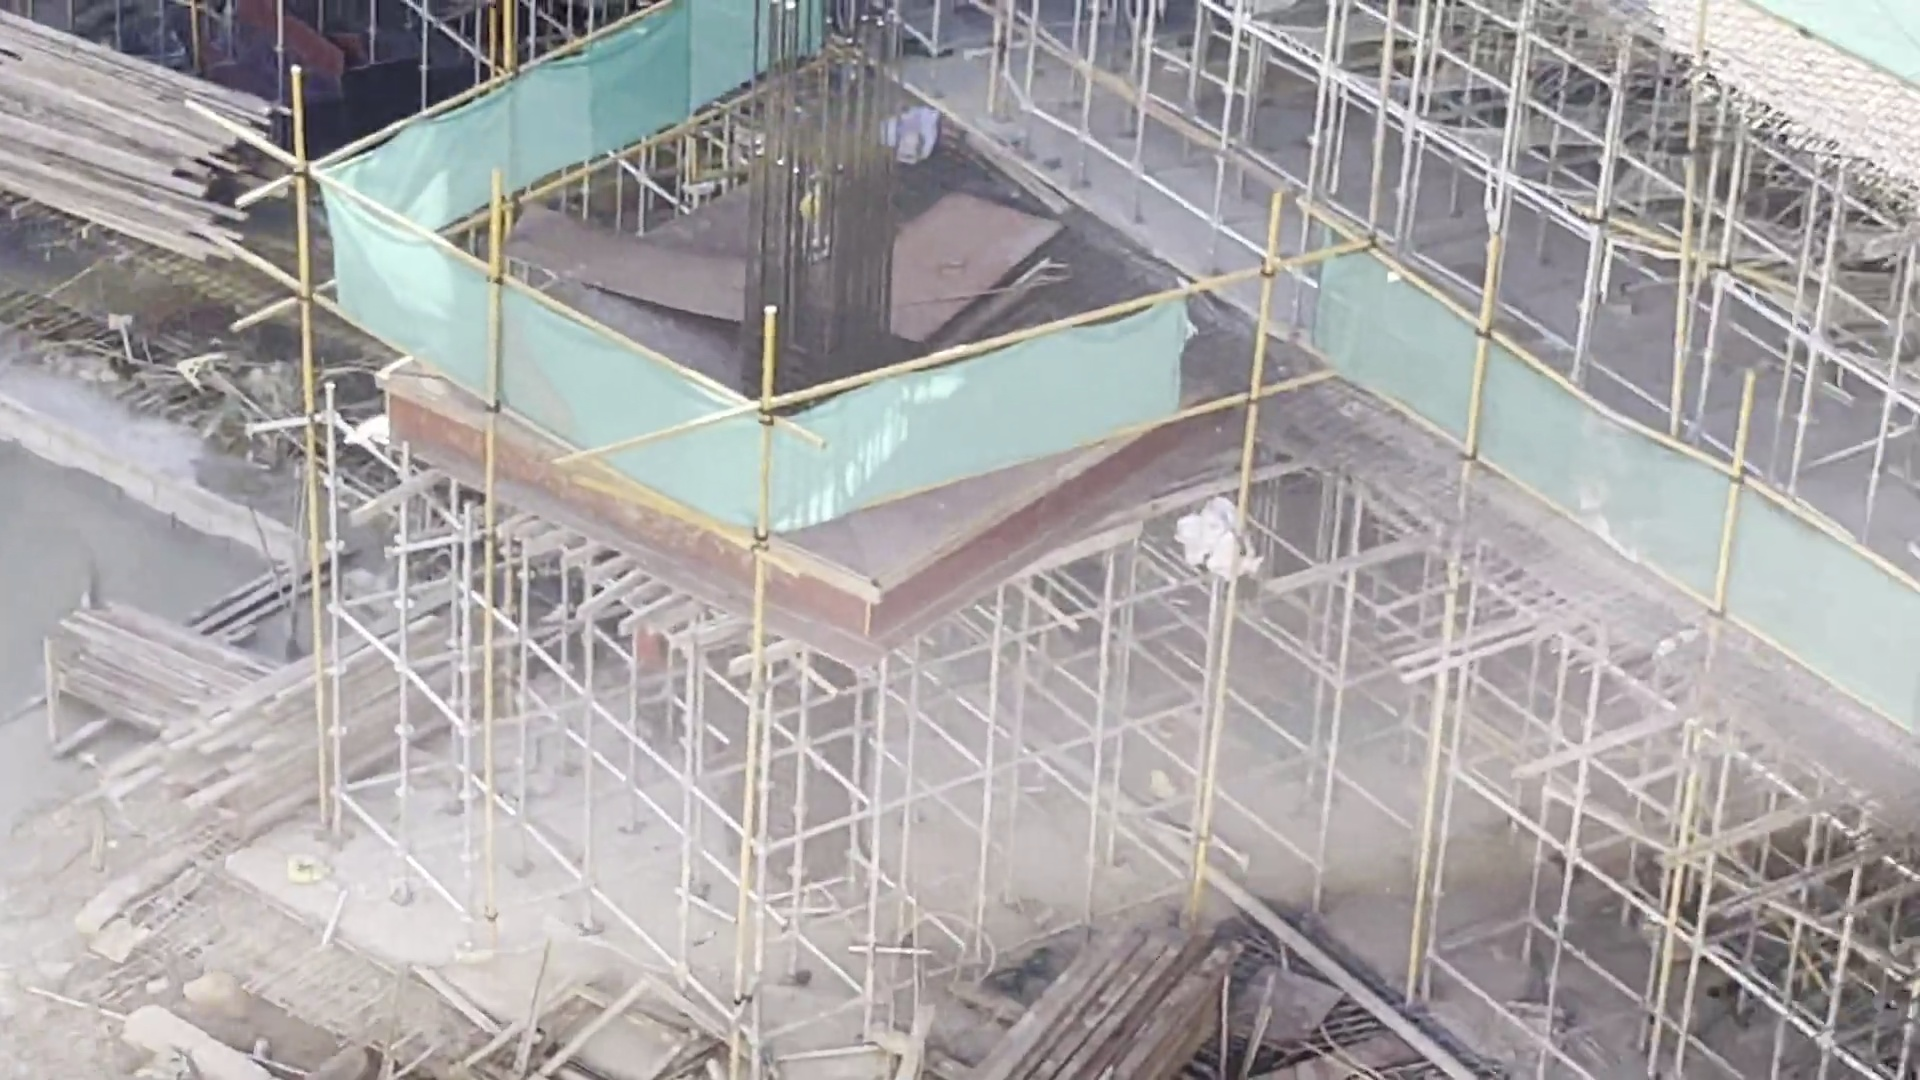wood: (54, 549, 447, 829), (8, 1, 301, 276)
